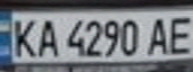0: (118, 16, 142, 56)
2: (81, 16, 106, 57)
4: (63, 16, 84, 57)
9: (103, 16, 124, 57)
A: (33, 16, 63, 57), (145, 14, 172, 56)
E: (163, 12, 193, 55)
K: (6, 15, 42, 58)
